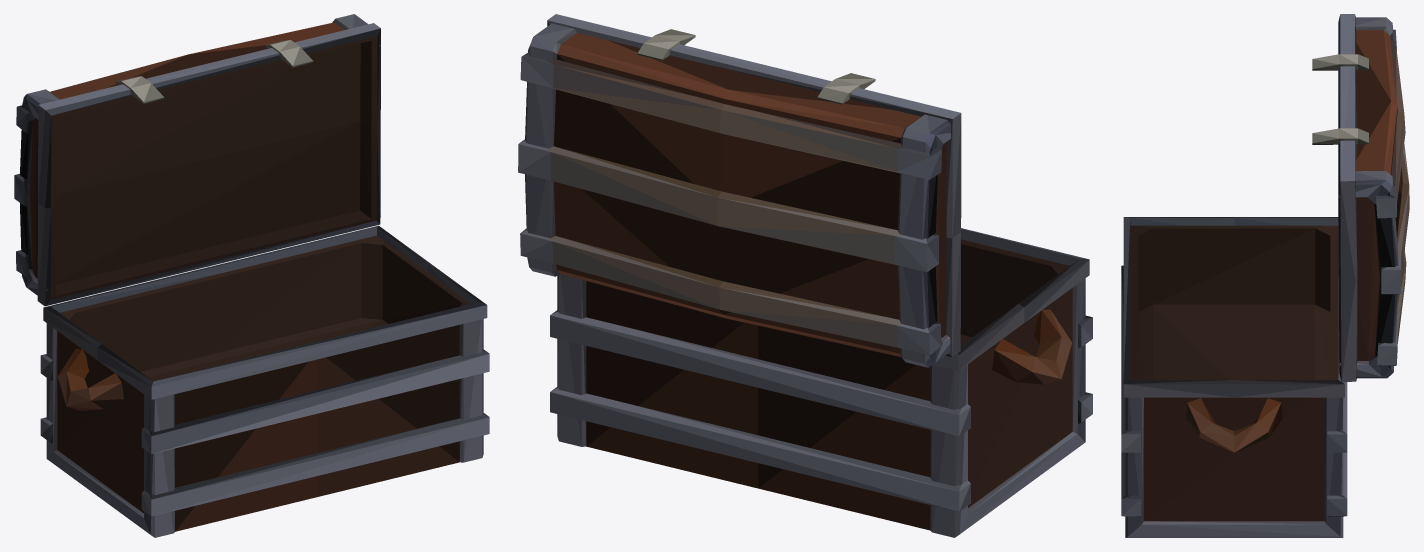
The model's file is prop_container_chest_2_anim.fbx.
3 renders of one model, left to right at view 1: azimuth 30°, elevation 25°; view 2: azimuth 150°, elevation 25°; view 3: azimuth 270°, elevation 25°, orthographic. The views are drawn at different scales.
Parts seen in each view (by area): view 1: chest_bottom, chest_top; view 2: chest_top, chest_bottom; view 3: chest_bottom, chest_top.
Part boxes in pixels (x1,y1,x2,y2): chest_bottom: (40,225,489,537); chest_top: (14,14,380,306); chest_top: (518,14,961,367); chest_bottom: (550,228,1092,537); chest_bottom: (1121,217,1347,537); chest_top: (1312,14,1409,381).
Bounding box in the file's own units: 2.48 × 2.11 × 1.52.
